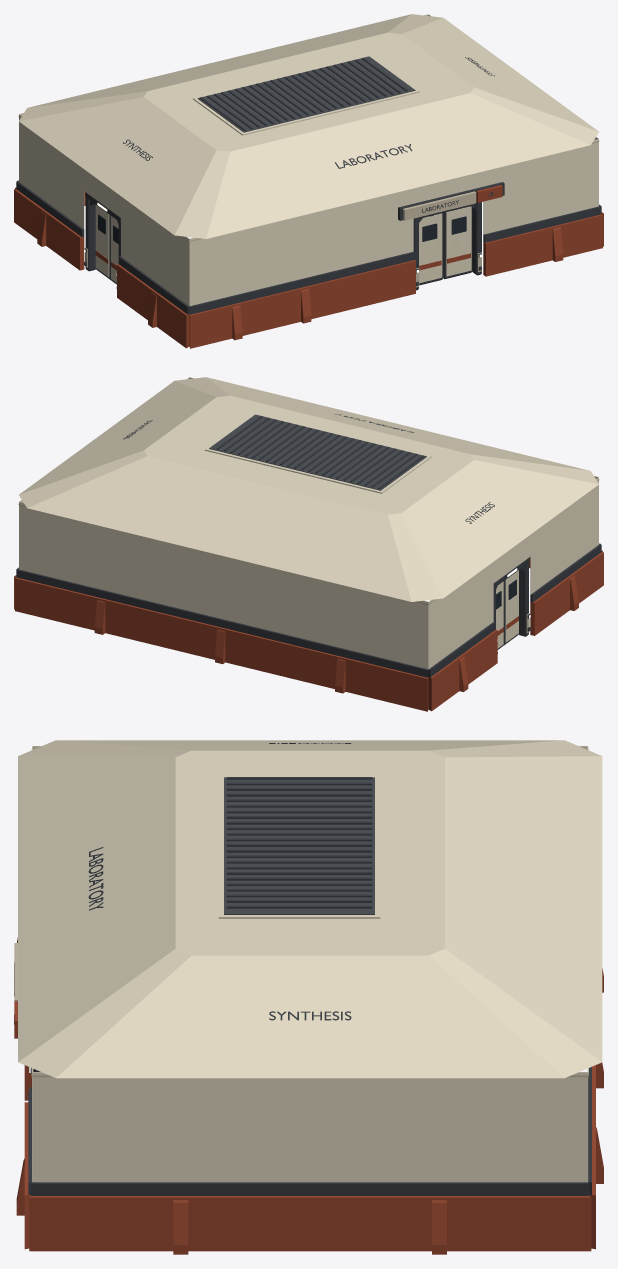
Rendered from laboratorio-casca-v001.glb.
3 renders of one model, top to bottom at view 1: azimuth 30°, elevation 25°; view 2: azimuth 150°, elevation 25°; view 3: azimuth 270°, elevation 25°, orthographic. The views are drawn at different scales.
Visible parts, largest first — view 1: Building_Roof, Casca_Parede, Casca_Fixa, Lab_ServiceDoor_R, Lab_ServiceDoor_L, Casca_Placa, Padrao_ARQ_Control_Portal_S_Lab_ServiceDoor, Padrao_ARQ_Control_Portal_S_Lab_AirlockDoor, Lab_AirlockDoor_L, Lab_AirlockDoor_R; view 2: Building_Roof, Casca_Parede, Casca_Fixa, Lab_AirlockDoor_R, Padrao_ARQ_Control_Portal_S_Lab_AirlockDoor, Lab_AirlockDoor_L; view 3: Building_Roof, Casca_Parede, Casca_Fixa.
Part boxes in pixels (box(x1,y1,x2,y2)): Building_Roof: box(19, 14, 598, 238); Casca_Parede: box(18, 14, 599, 306); Casca_Fixa: box(14, 180, 603, 348); Lab_ServiceDoor_R: box(443, 205, 472, 279); Lab_ServiceDoor_L: box(419, 212, 443, 285); Casca_Placa: box(398, 182, 504, 220); Padrao_ARQ_Control_Portal_S_Lab_ServiceDoor: box(413, 202, 481, 290); Padrao_ARQ_Control_Portal_S_Lab_AirlockDoor: box(84, 192, 120, 288); Lab_AirlockDoor_L: box(95, 205, 110, 279); Lab_AirlockDoor_R: box(111, 216, 118, 284); Building_Roof: box(19, 377, 598, 601); Casca_Parede: box(18, 377, 599, 669); Casca_Fixa: box(14, 543, 603, 711); Lab_AirlockDoor_R: box(503, 570, 518, 645); Padrao_ARQ_Control_Portal_S_Lab_AirlockDoor: box(493, 558, 530, 653); Lab_AirlockDoor_L: box(496, 581, 503, 649); Building_Roof: box(18, 740, 602, 1078); Casca_Parede: box(31, 746, 588, 1182); Casca_Fixa: box(16, 937, 603, 1254).
Size of the model in its own units: 14.9 by 4.84 by 10.95.
Materials: 2 (2 with a texture image).
